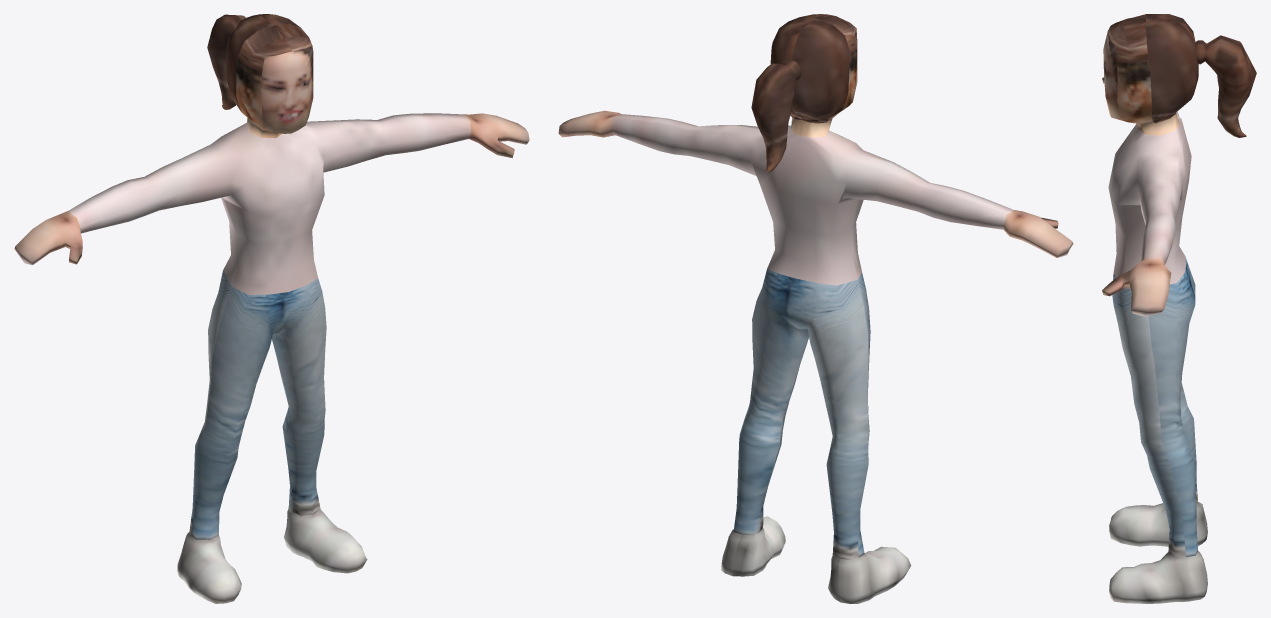
Rendered from mom.fbx.
The picture shows the model from 3 angles, left to right: view 1: azimuth 30°, elevation 25°; view 2: azimuth 150°, elevation 25°; view 3: azimuth 270°, elevation 25°; orthographic projection.
Parts seen in each view (by area): view 1: mom5; view 2: mom5; view 3: mom5.
Part boxes in pixels (left/top/right/bottom): mom5: left=14, top=14, right=529, bottom=603; mom5: left=558, top=14, right=1073, bottom=603; mom5: left=1102, top=14, right=1256, bottom=603.
Size of the model in its own units: 178 by 185 by 47.42.
Materials: 1 (1 with a texture image).
